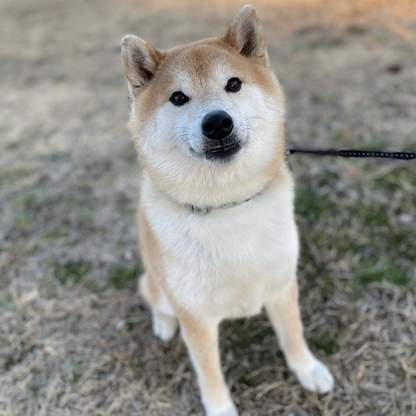shiba: (107, 2, 342, 416)
